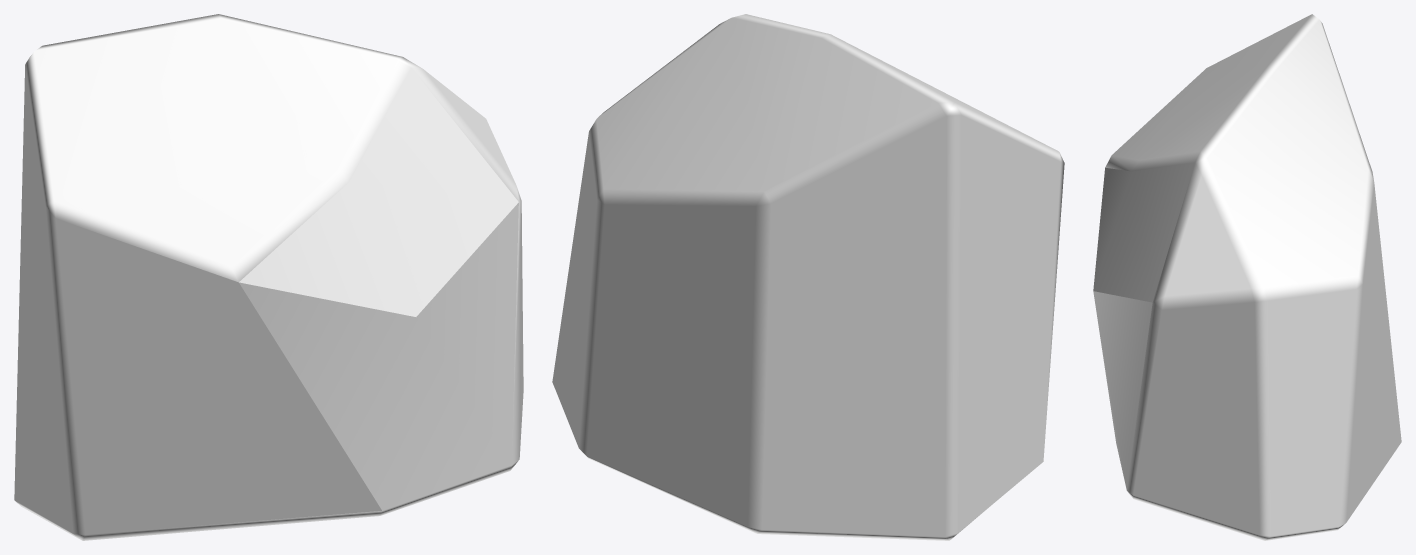
The model's file is medium_rock.fbx.
3 renders of one model, left to right at view 1: azimuth 30°, elevation 25°; view 2: azimuth 150°, elevation 25°; view 3: azimuth 270°, elevation 25°, orthographic. The views are drawn at different scales.
Parts seen in each view (by area): view 1: clay1.001; view 2: clay1.001; view 3: clay1.001.
Part boxes in pixels (box(x1,y1,x2,y2)): clay1.001: box(14, 14, 523, 540); clay1.001: box(552, 14, 1064, 540); clay1.001: box(1093, 14, 1401, 540).
Bounding box in the file's own units: 193 × 173 × 127.
